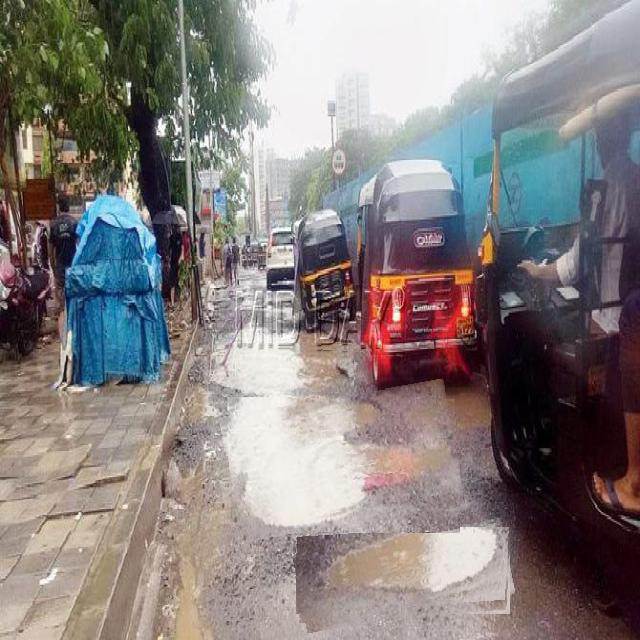Pothole: (224, 388, 460, 533), (296, 527, 512, 624), (230, 344, 354, 395)
